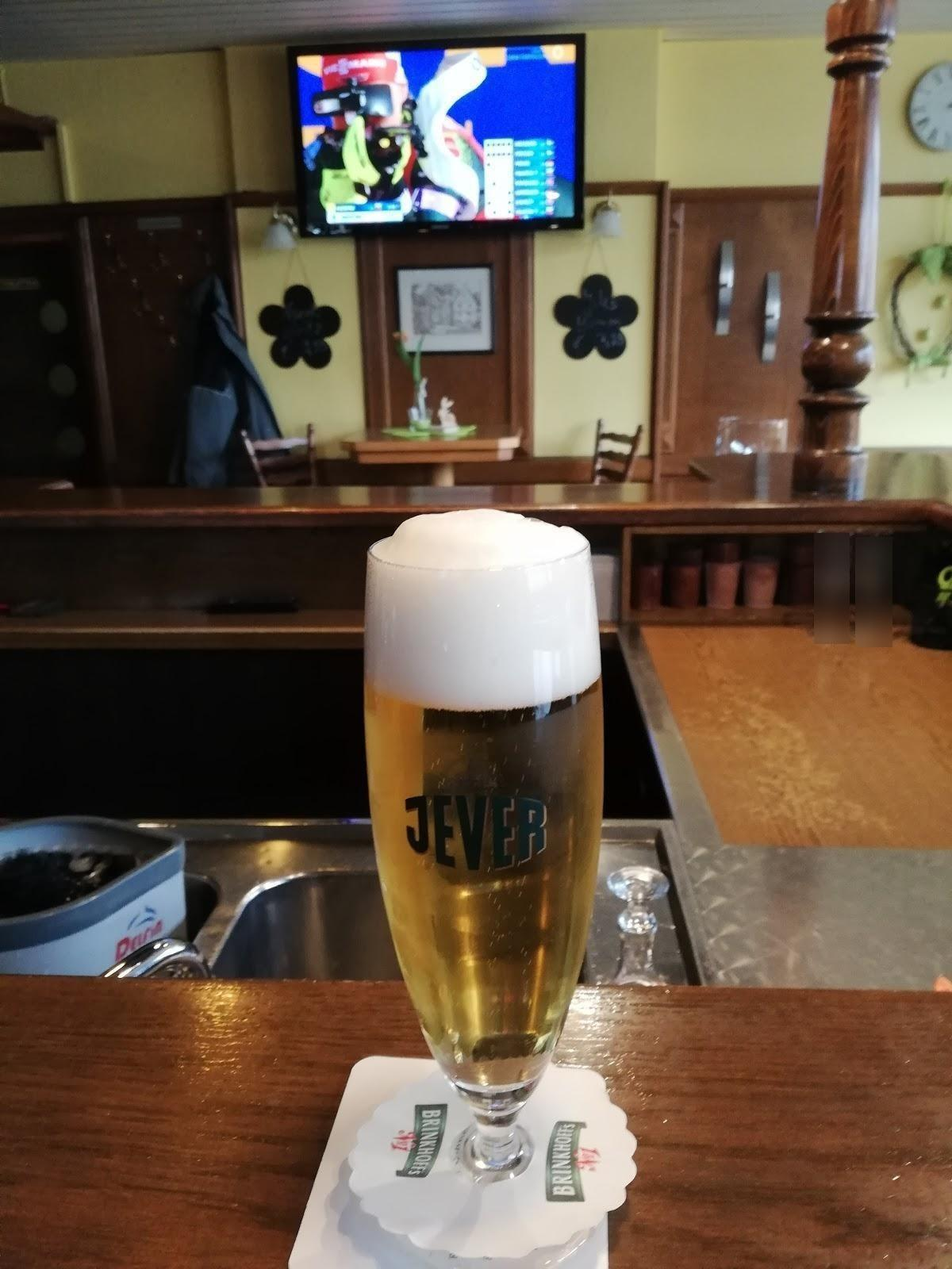glass-wine: (358, 507, 612, 1193)
